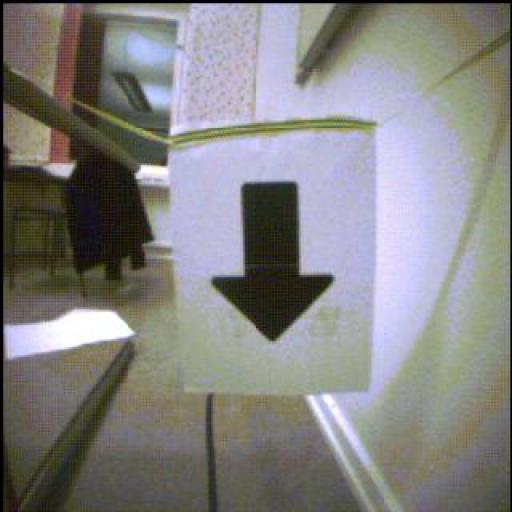Arrow: (213, 183, 336, 342)
